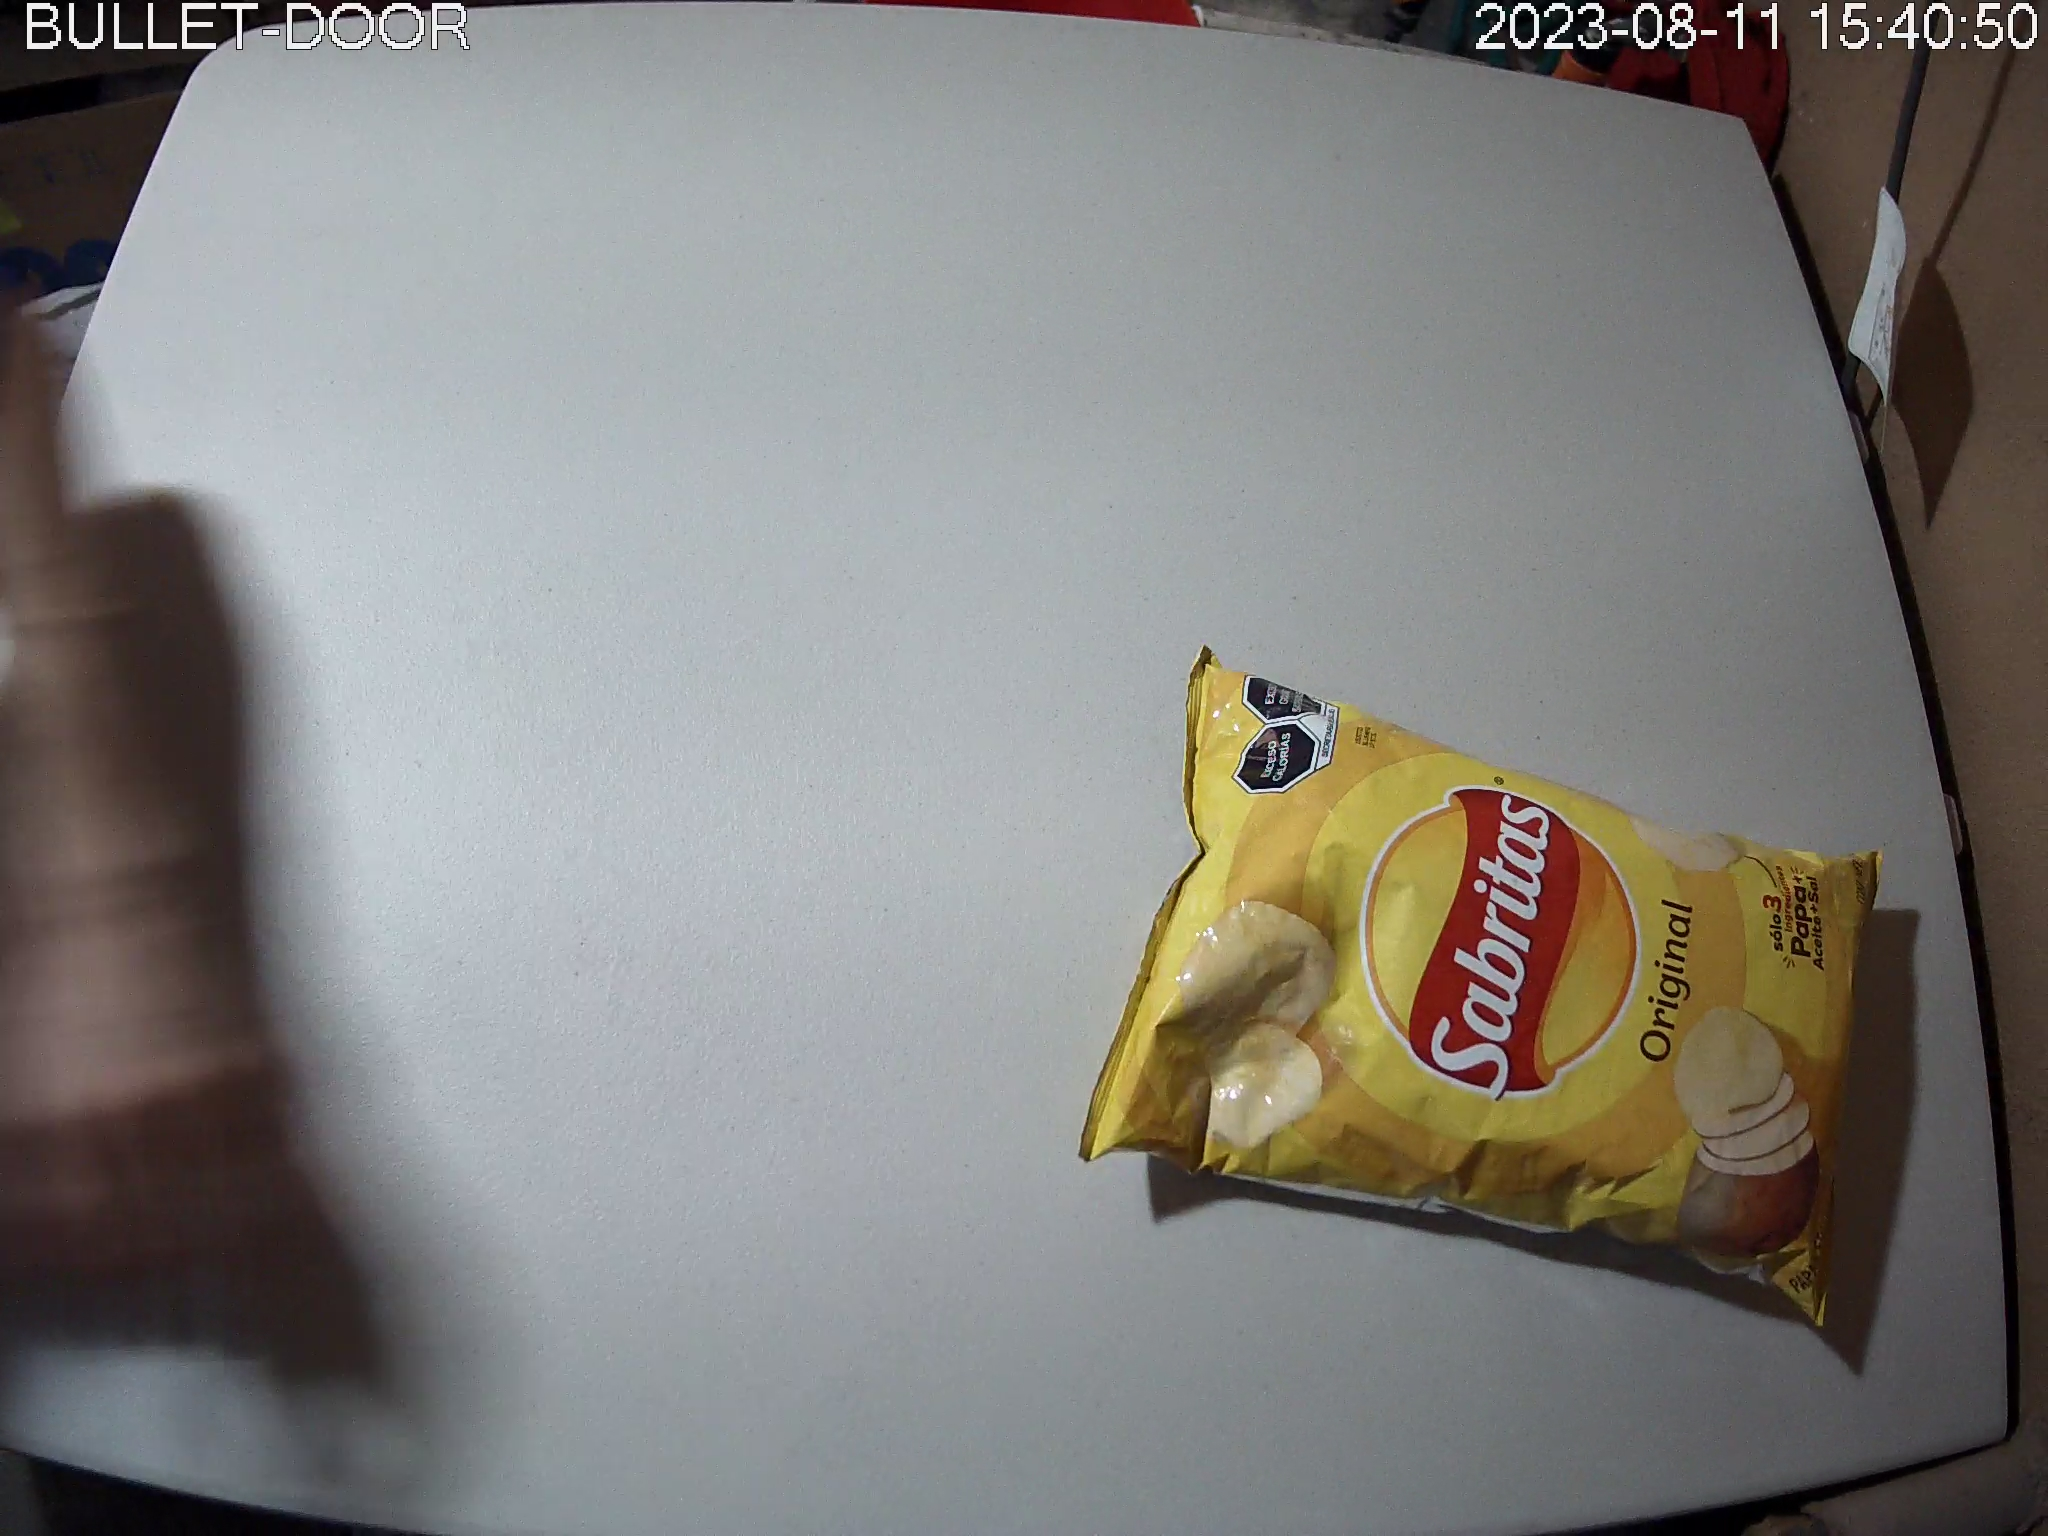Sabritas_160_F: (1077, 644, 1884, 1331)
